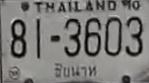0: (104, 16, 122, 56)
1: (35, 18, 40, 58)
3: (124, 15, 143, 55), (63, 17, 80, 56)
6: (84, 17, 101, 56)
8: (10, 18, 26, 57)
CNT: (50, 61, 98, 79)
